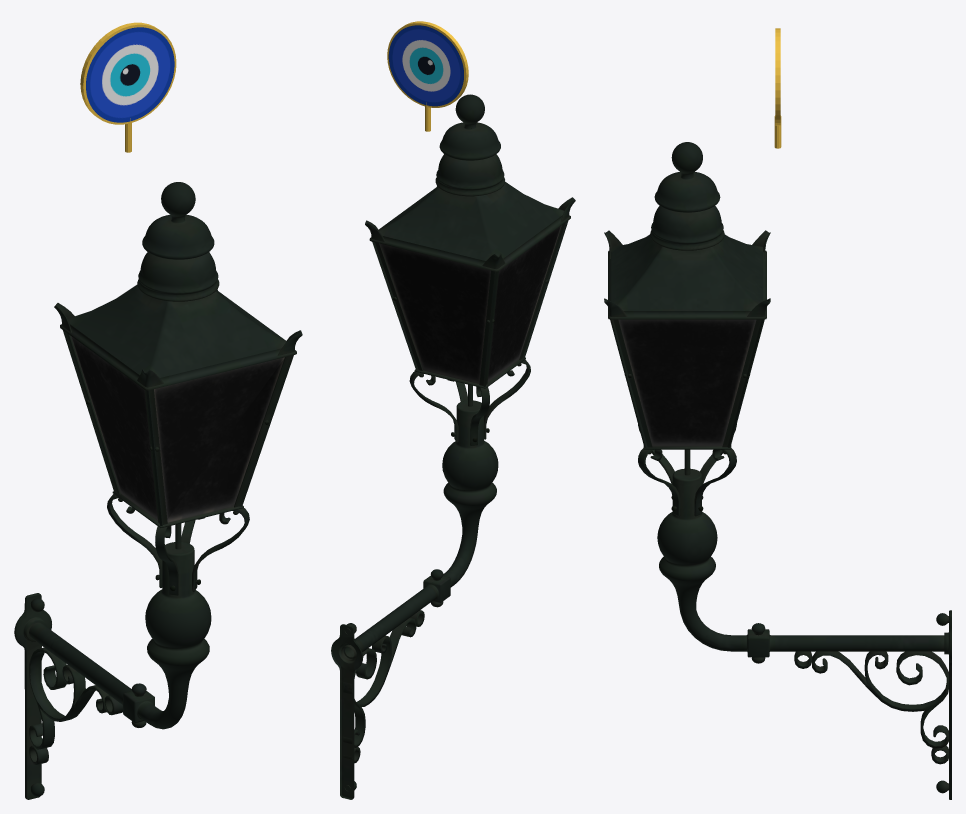
The model's file is nyb_bigdaddy_lamp.glb.
3 views of the same model, side by side, from view 1: azimuth 30°, elevation 25°; view 2: azimuth 150°, elevation 25°; view 3: azimuth 270°, elevation 25° (orthographic). The views are drawn at different scales.
Visible parts, largest first — view 1: street_lamp_02, add_nazar.png, Cylinder; view 2: street_lamp_02, add_nazar.png, Cylinder; view 3: street_lamp_02.
Part boxes in pixels (left/top/right/bottom): street_lamp_02: left=14, top=182, right=302, bottom=799; add_nazar.png: left=86, top=27, right=174, bottom=122; Cylinder: left=80, top=22, right=176, bottom=124; street_lamp_02: left=331, top=94, right=575, bottom=799; add_nazar.png: left=388, top=25, right=463, bottom=106; Cylinder: left=387, top=21, right=468, bottom=107; street_lamp_02: left=604, top=142, right=951, bottom=799.
Bounding box in the file's own units: 0.3867 × 1.96 × 0.8069.
Materials: 6 (4 with a texture image).
